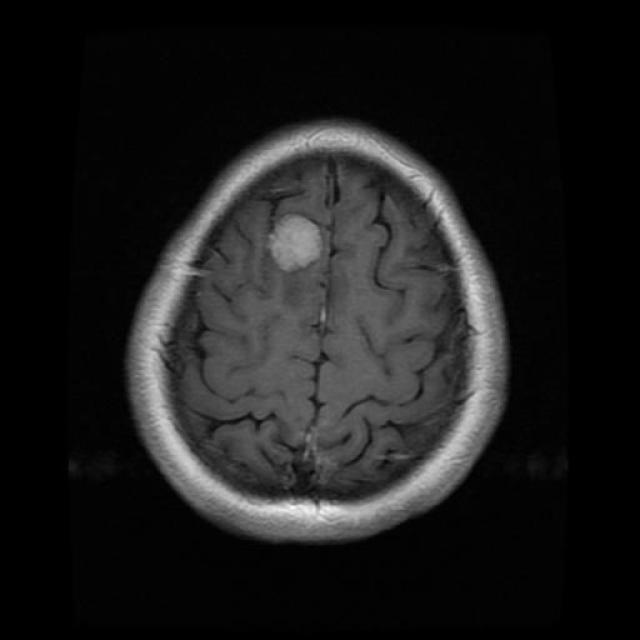meningioma: (270, 214, 322, 271)
